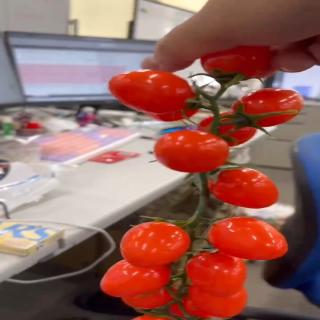tomato: (108, 70, 201, 116), (204, 215, 290, 261), (154, 128, 232, 173), (119, 220, 191, 268), (233, 88, 306, 130), (209, 167, 281, 209), (100, 259, 173, 299), (186, 250, 248, 297), (200, 46, 277, 82), (185, 282, 250, 318), (122, 276, 176, 310), (125, 313, 178, 320)
